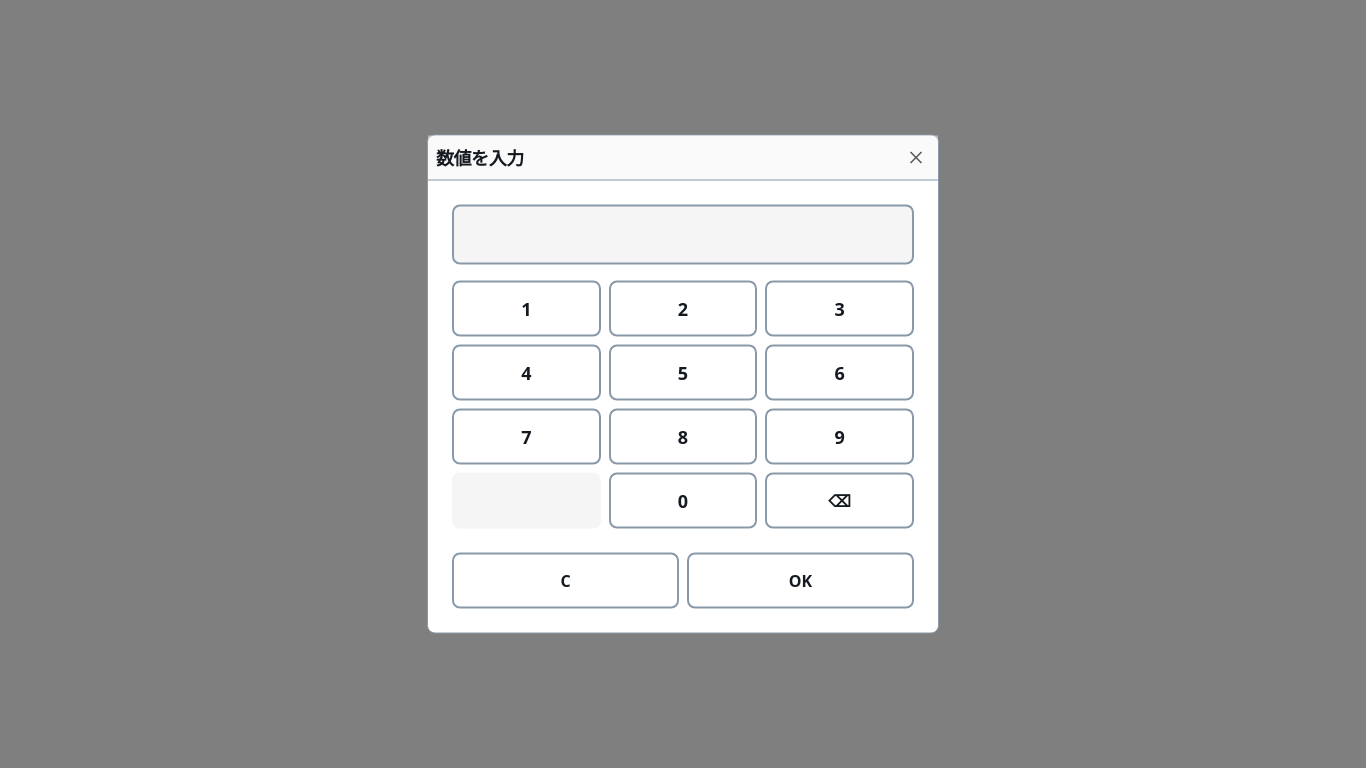
Test: KeypadModal Component › Number Variant (Default) › backspaces input
The image size is (1366, 768).
Click the button "1". click: coordinates (526, 308)
box: x1=452 y1=280 x2=601 y2=336
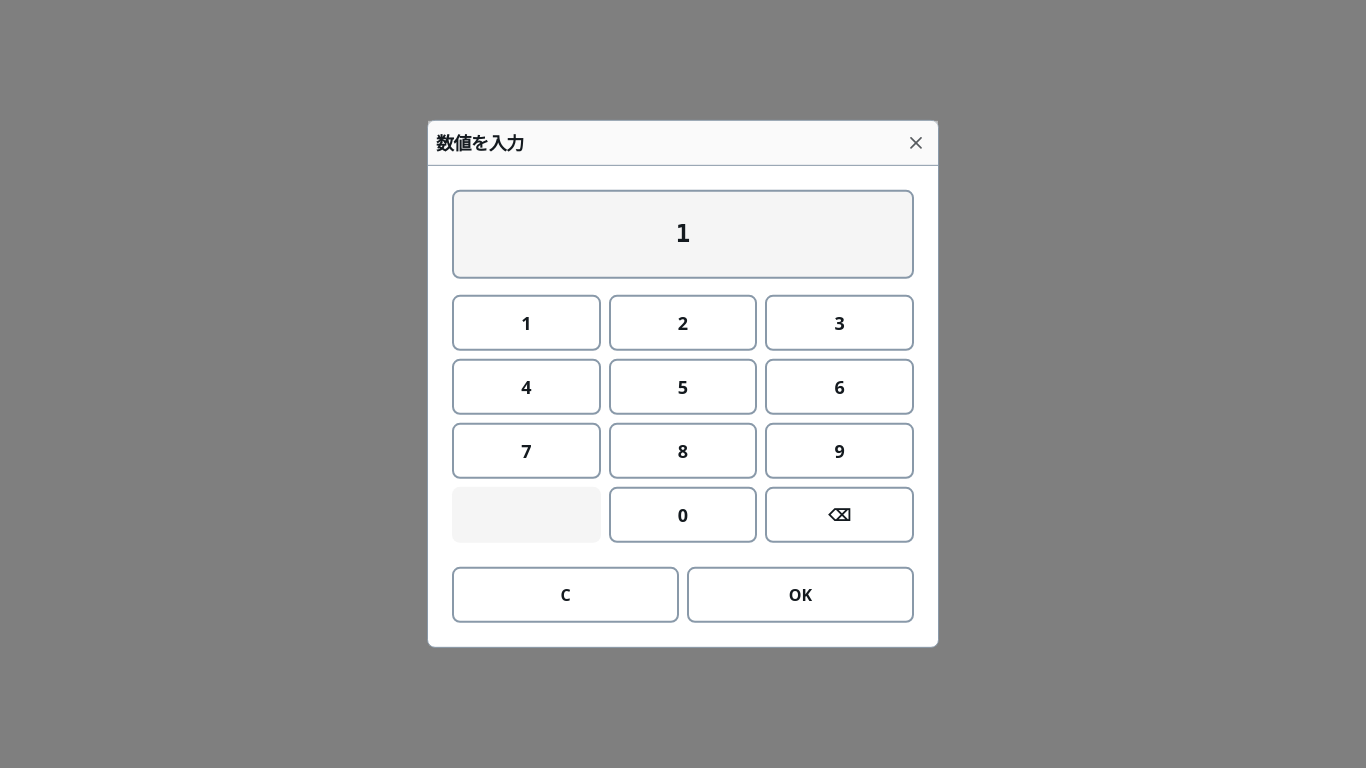
Click the button "2". click: coordinates (683, 323)
box: x1=609 y1=295 x2=757 y2=351
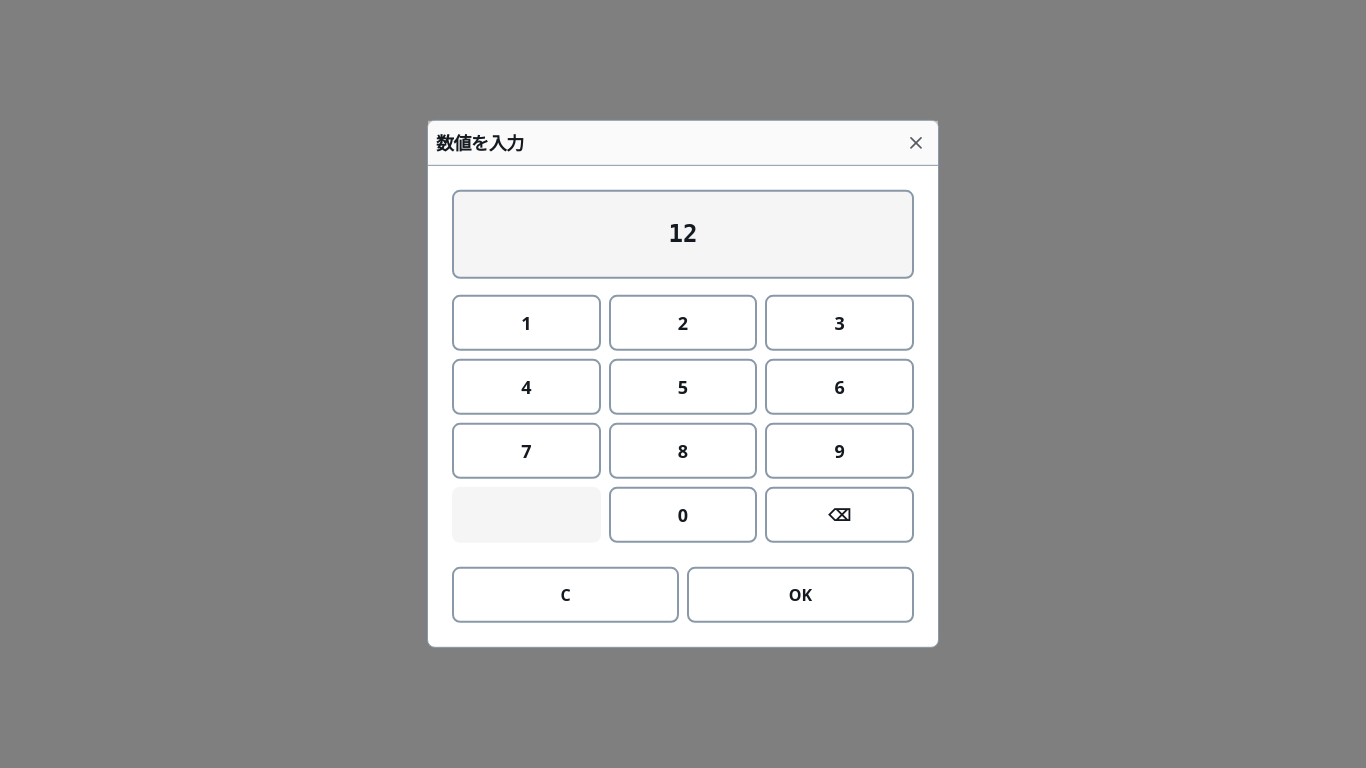
Click the button "⌫". click: coordinates (840, 515)
box: x1=765 y1=487 x2=914 y2=543
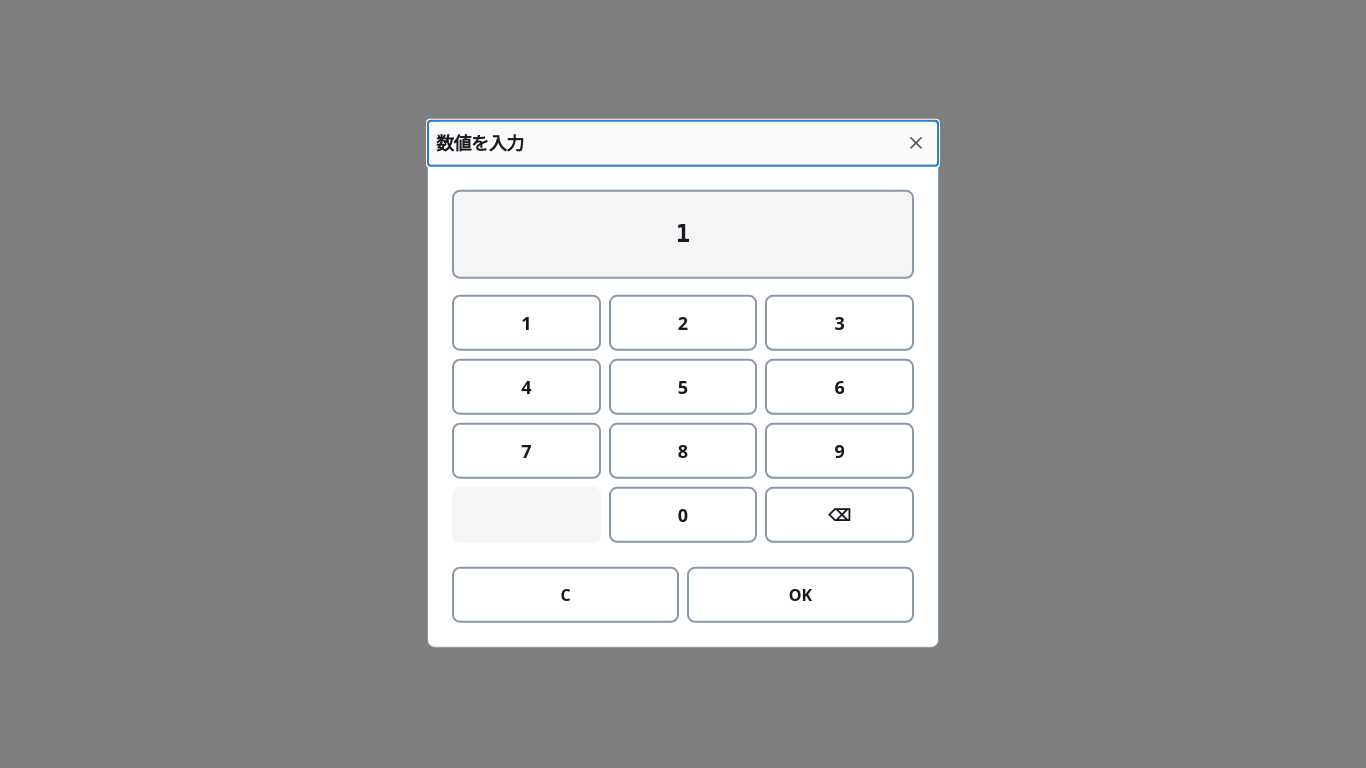
expect the text "1" is shown 2 times: met, box x1=676 y1=216 x2=690 y2=253; x1=452 y1=295 x2=601 y2=351
expect the text "12" is gone: met
